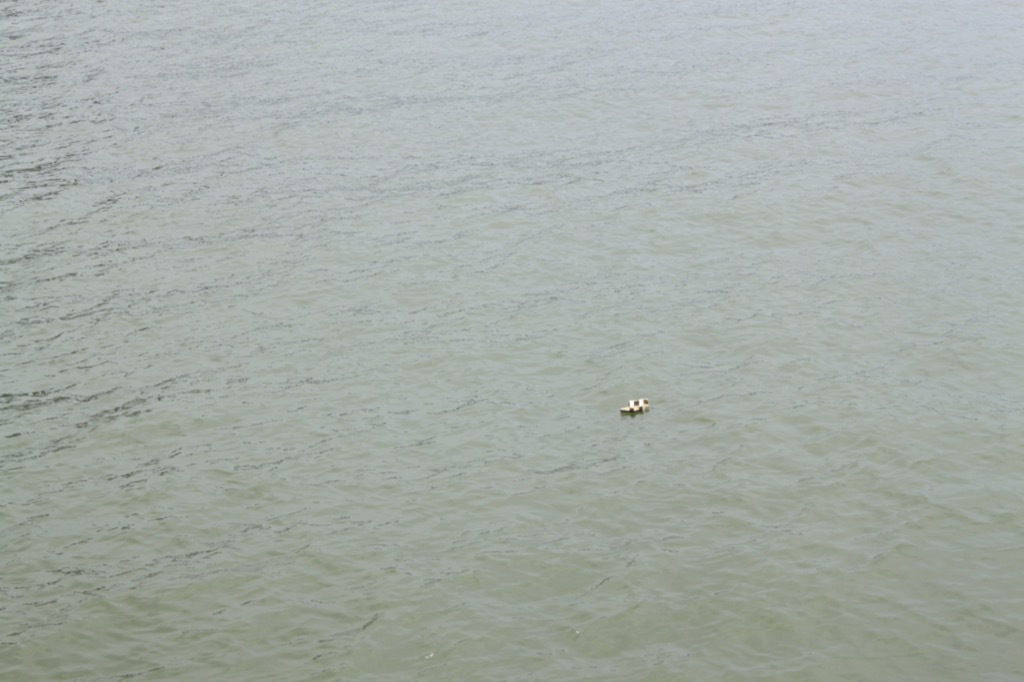plastic: (601, 385, 667, 430)
